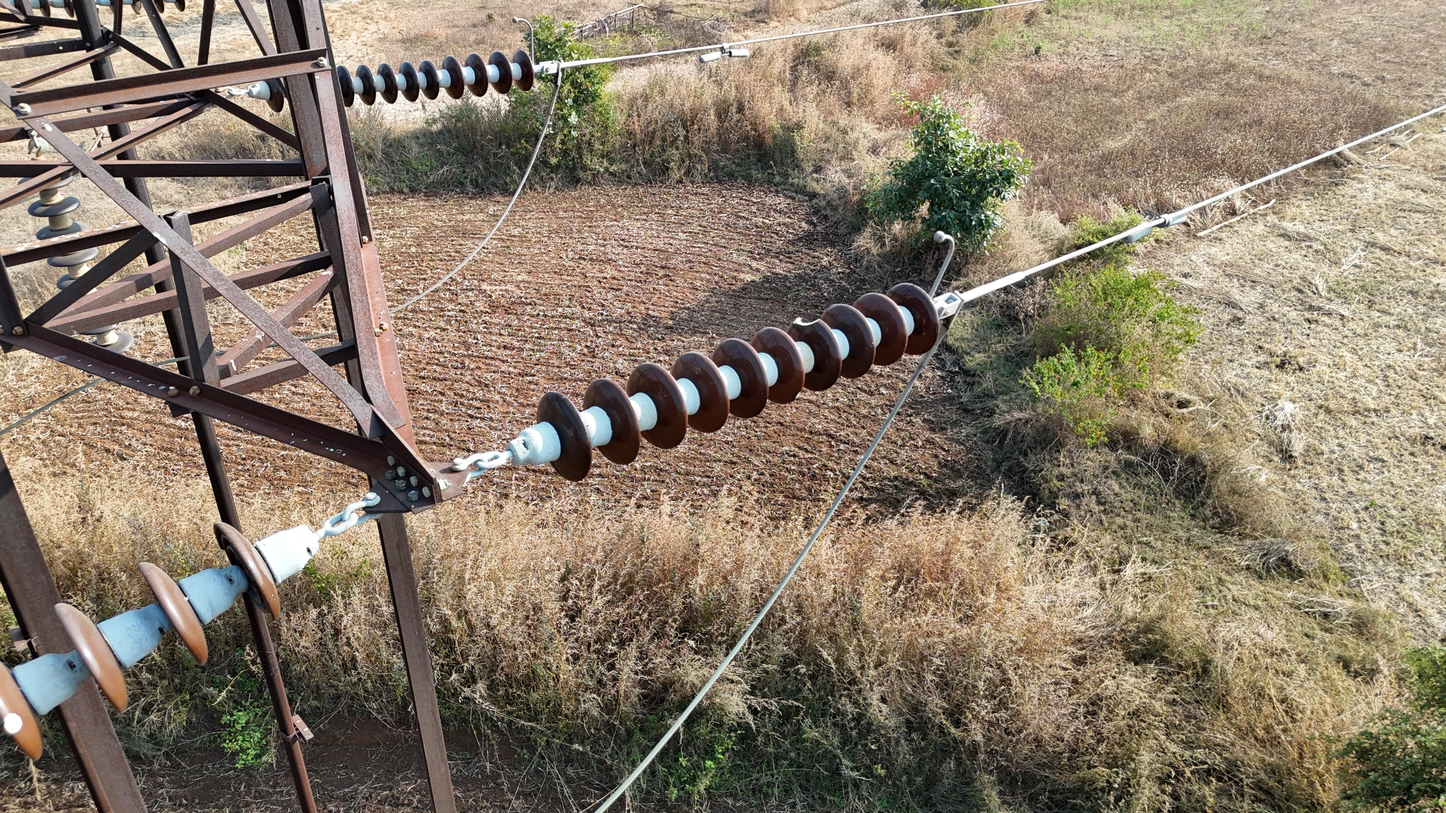broken_insulator: (786, 309, 847, 354)
